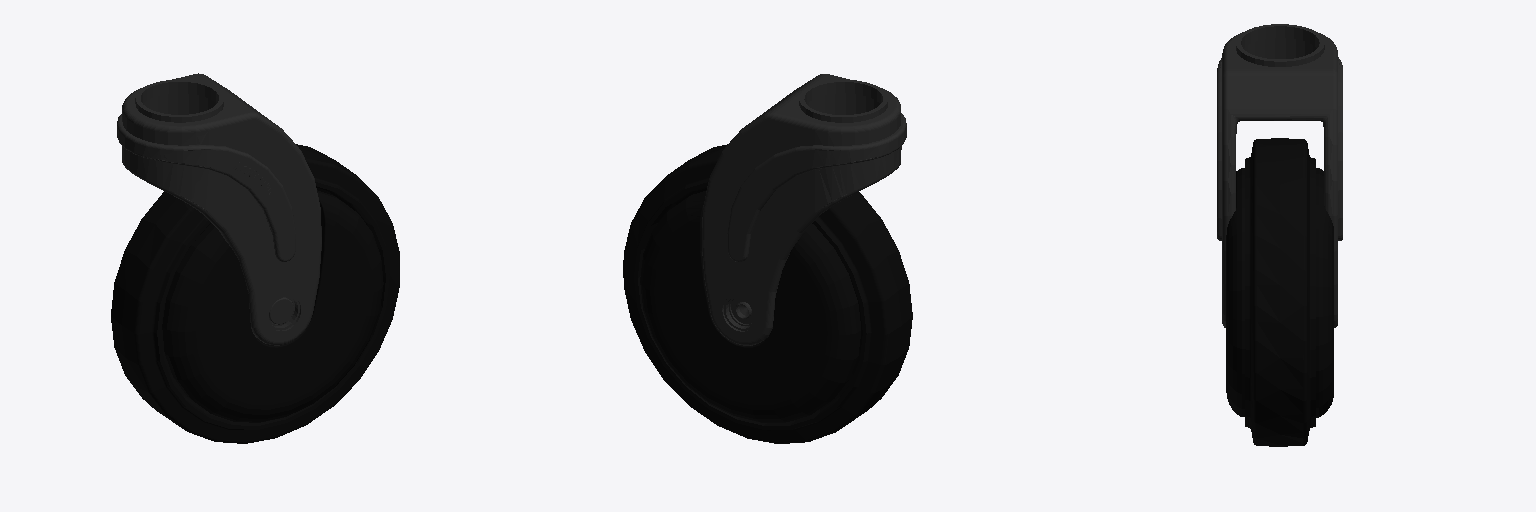
File: swivel_link.obj
3 renders of one model, left to right at view 1: azimuth 30°, elevation 25°; view 2: azimuth 150°, elevation 25°; view 3: azimuth 270°, elevation 25°, orthographic.
Visible parts, largest first — view 1: K033A0004_1_05, JPD_01; view 2: K033A0004_1_05, JPD_01; view 3: K033A0004_1_05, JPD_01.
Part boxes in pixels (x1,y1,x2,y2): K033A0004_1_05: (111,144,399,443); JPD_01: (117,73,321,345); K033A0004_1_05: (623,144,912,443); JPD_01: (702,74,906,345); K033A0004_1_05: (1226,138,1333,446); JPD_01: (1217,24,1342,327).
Size of the model in its own units: 14.14 by 17.73 by 5.79.